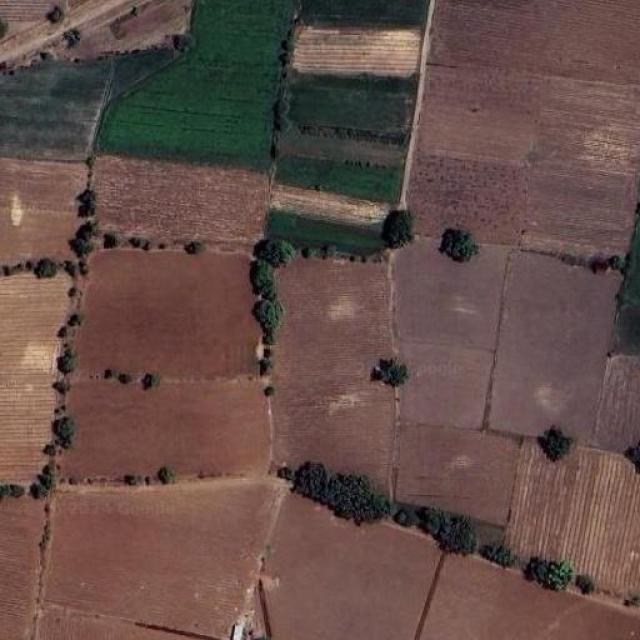land-Sx1C: (408, 0, 640, 254), (262, 494, 640, 640), (48, 479, 285, 639), (99, 0, 294, 169), (274, 258, 394, 491), (262, 492, 441, 639), (490, 251, 619, 439), (75, 250, 261, 378), (396, 230, 511, 429), (62, 379, 271, 479), (508, 441, 640, 594), (92, 155, 270, 249), (0, 272, 71, 483), (398, 419, 519, 524), (0, 60, 111, 159), (0, 158, 88, 263), (288, 72, 414, 144), (279, 132, 403, 203), (292, 25, 422, 77), (0, 496, 45, 639), (38, 605, 208, 640), (268, 209, 384, 255), (272, 184, 391, 226), (592, 354, 640, 452), (110, 35, 179, 102), (615, 202, 640, 353), (301, 0, 428, 26), (0, 0, 79, 39)
